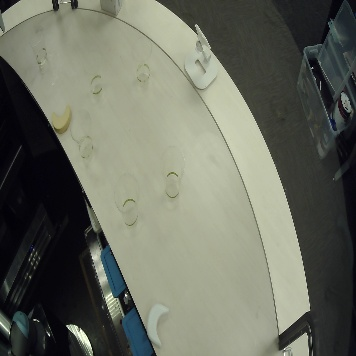empty_cup: (113, 174, 141, 229), (158, 146, 186, 201), (70, 114, 95, 163), (130, 37, 153, 86), (83, 51, 106, 100), (28, 23, 49, 69)
puck: (146, 302, 169, 347), (51, 106, 72, 134)
